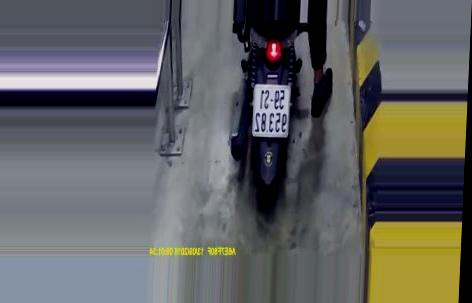License_Plate: (249, 82, 294, 137)
